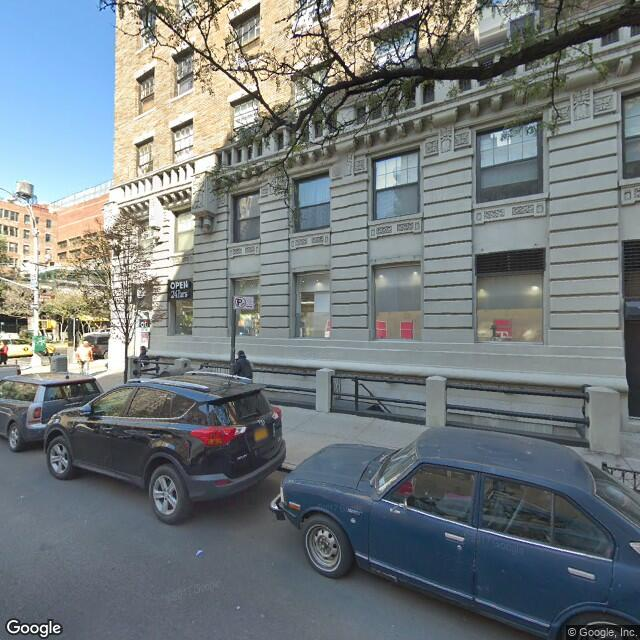window: (477, 251, 544, 344), (477, 125, 541, 201), (375, 264, 421, 339), (371, 153, 420, 218), (295, 270, 331, 339), (294, 175, 329, 230), (231, 277, 258, 336), (168, 279, 193, 336), (233, 194, 260, 242), (175, 210, 194, 252)
